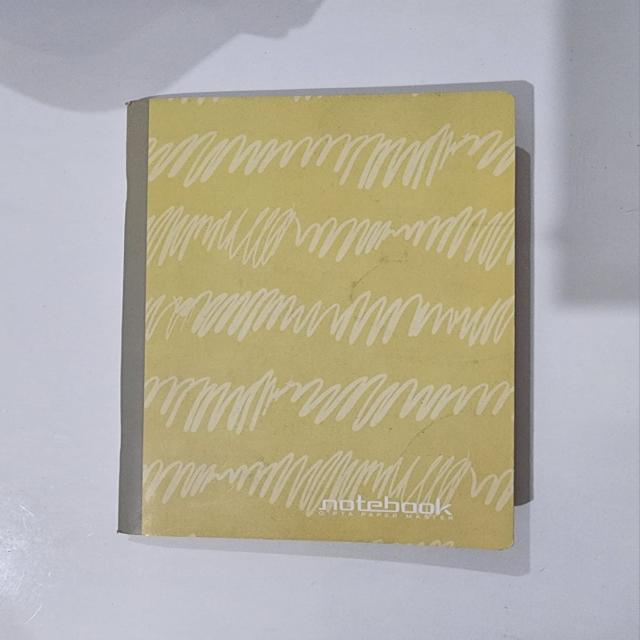defter: (118, 91, 515, 547)
